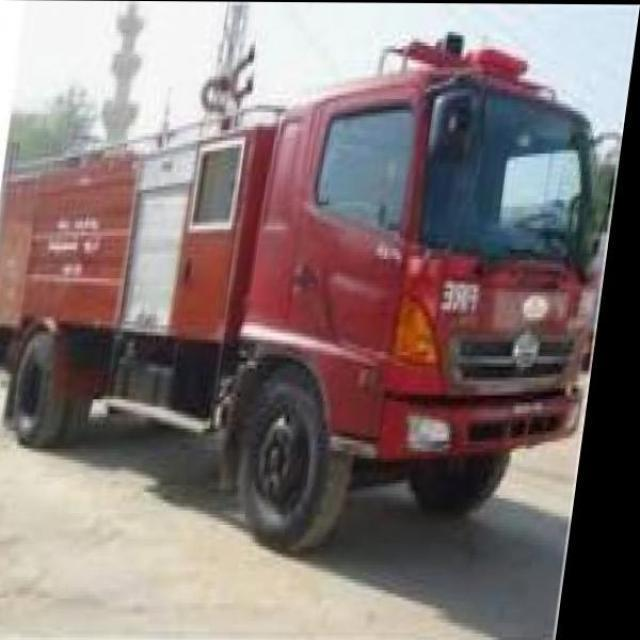emergency: (1, 23, 619, 553)
